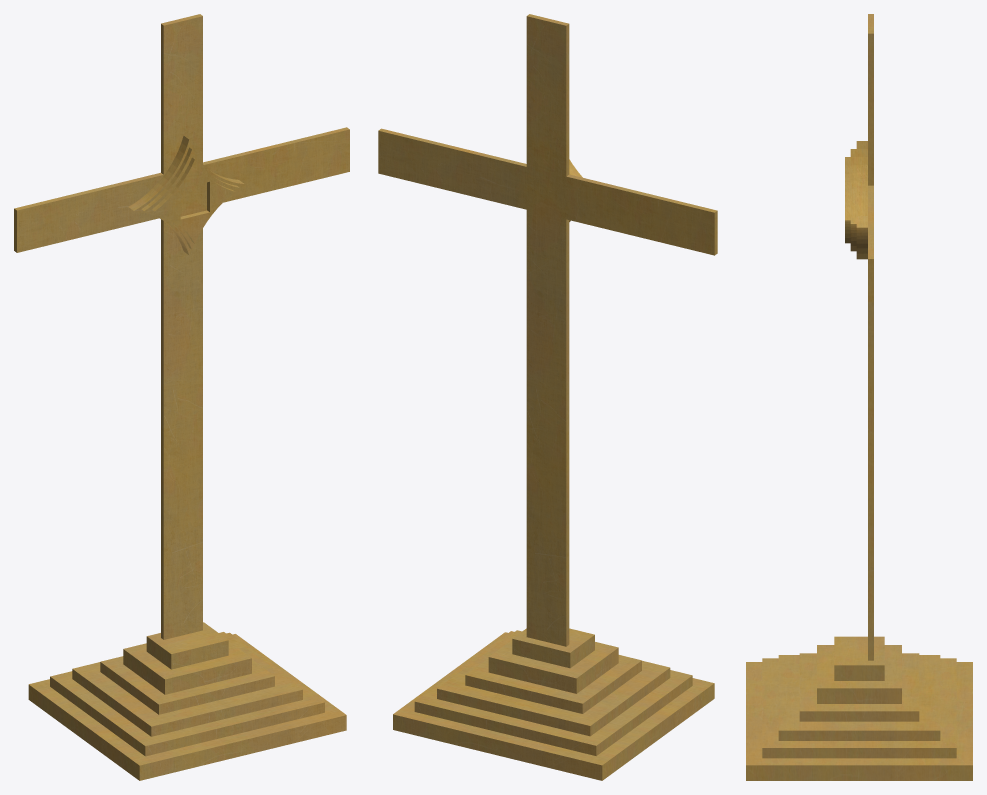
File: Golden cross.FBX
The picture shows the model from 3 angles, left to right: view 1: azimuth 30°, elevation 25°; view 2: azimuth 150°, elevation 25°; view 3: azimuth 270°, elevation 25°; orthographic projection. The views are drawn at different scales.
Visible parts, largest first — view 1: golden cross; view 2: golden cross; view 3: golden cross.
Boxes of the visible parts, <box> form: golden cross: <box>14,14,349,780</box>; golden cross: <box>378,14,717,780</box>; golden cross: <box>746,14,972,780</box>.
Bounding box in the file's own units: 25.03 × 49.68 × 14.48.
1 material, 1 textured.
